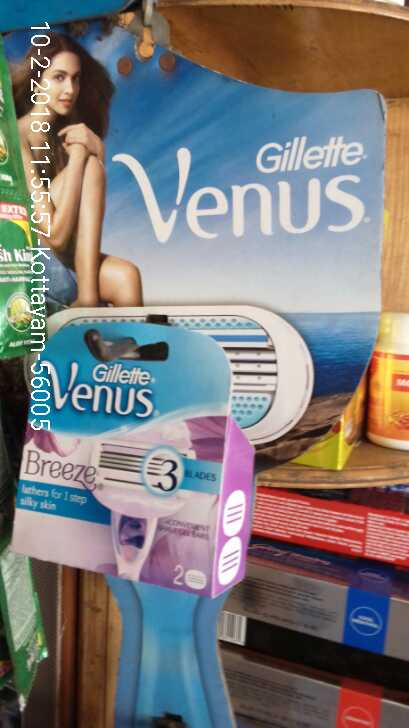venus: (44, 312, 247, 598)
